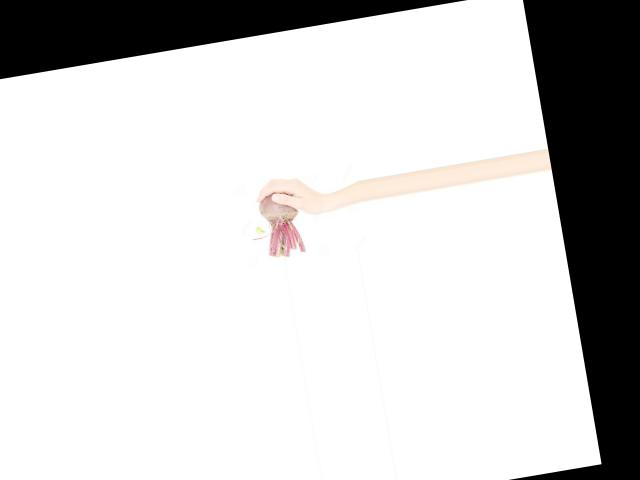beet: (244, 188, 305, 261)
